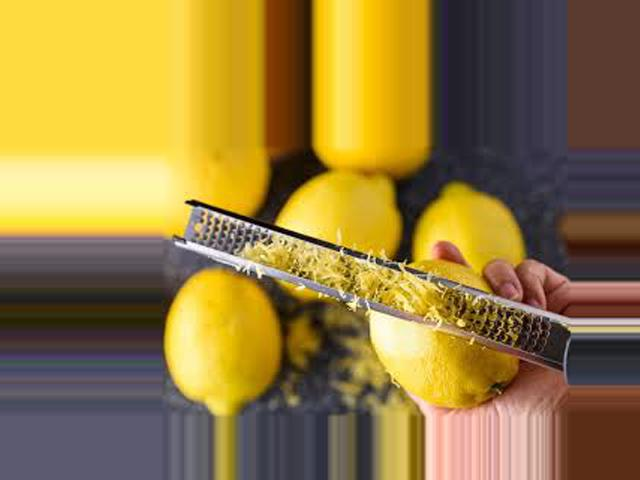lemon: (166, 270, 302, 411)
